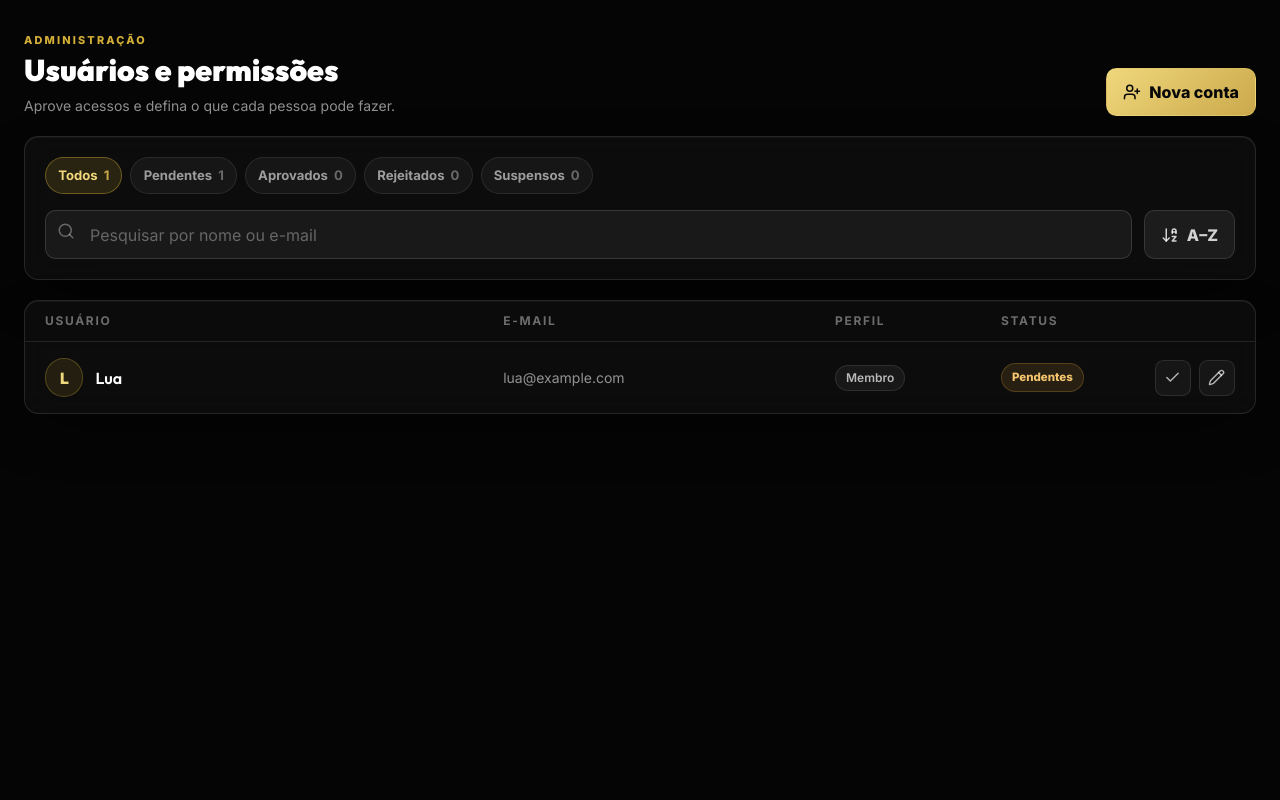
Scenario: UsersPanel › fecha a edição sem exibir a faixa persistente de alterações salvas
The image size is (1280, 800).
Expected: the heading "Lua" is shown, [95, 366, 122, 390]
Step 1. Click the button named "Editar Lua" → (1217, 378), box [1199, 360, 1235, 396]
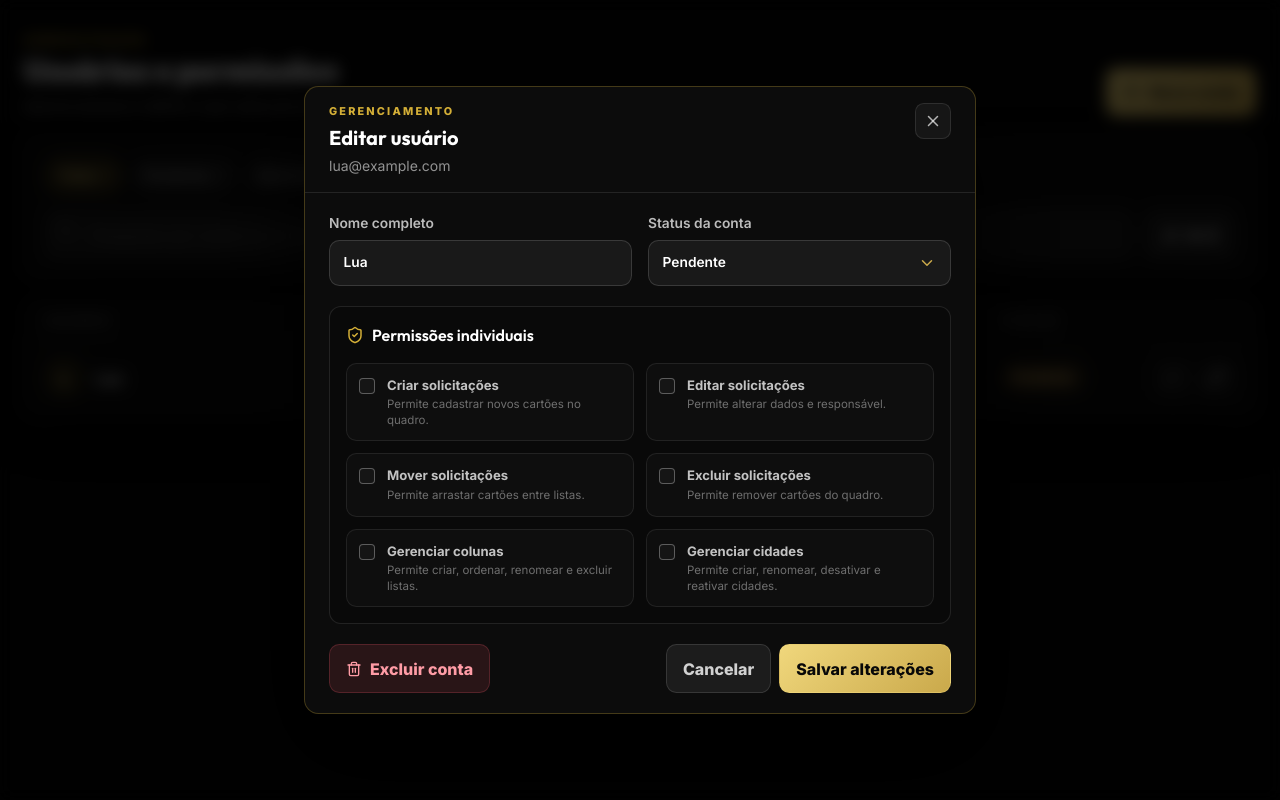
Step 2. Replace the text in the field labelled "Nome completo" with "Lua Silva" → (480, 263), box [329, 240, 632, 286]
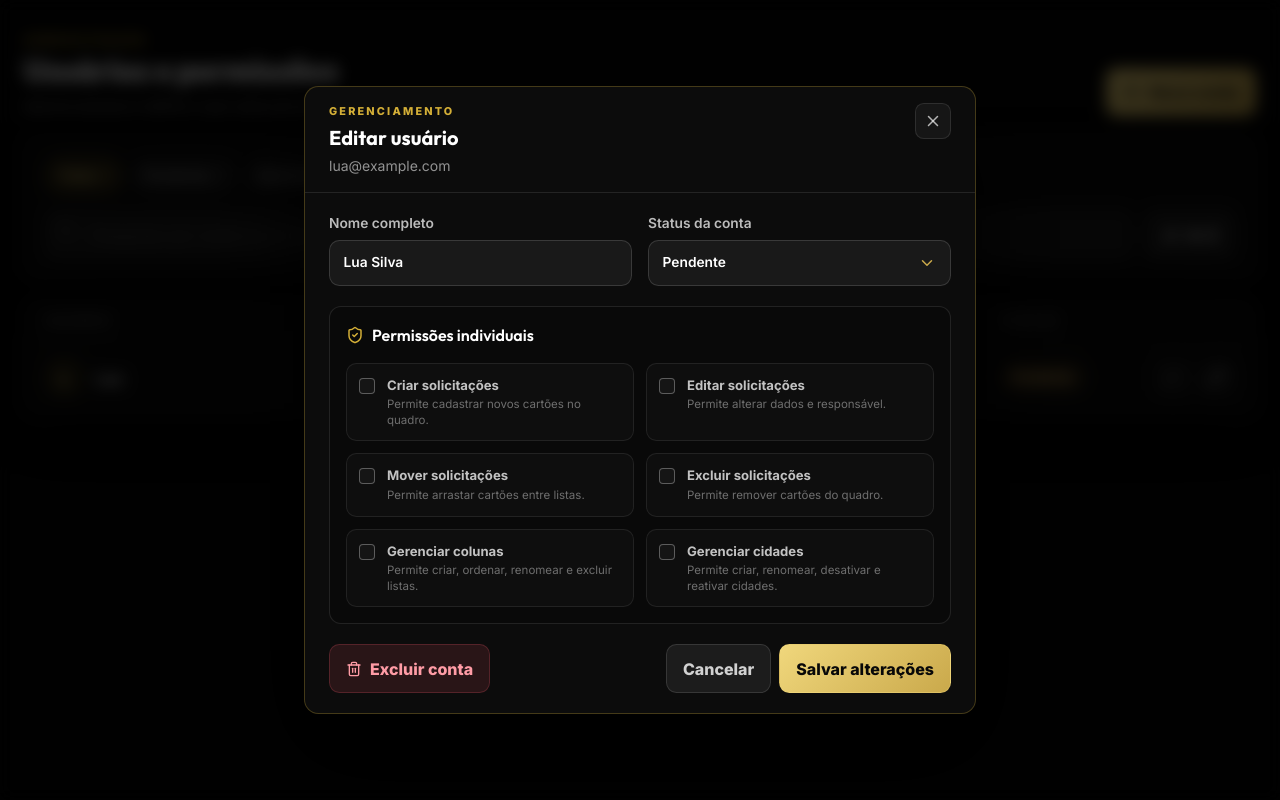
Step 3. Click the button "Salvar alterações" → (865, 668), box [779, 644, 951, 693]
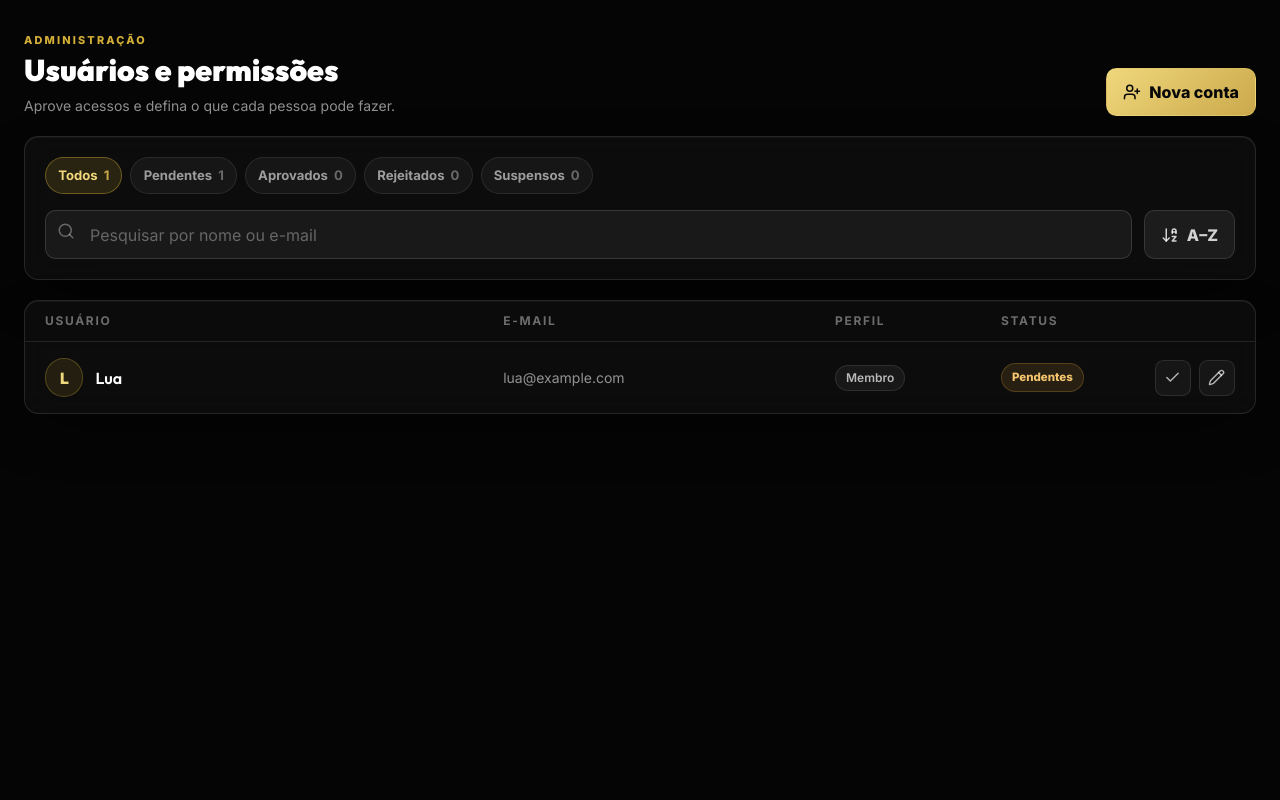
Expected: the heading "Editar usuário" is gone
